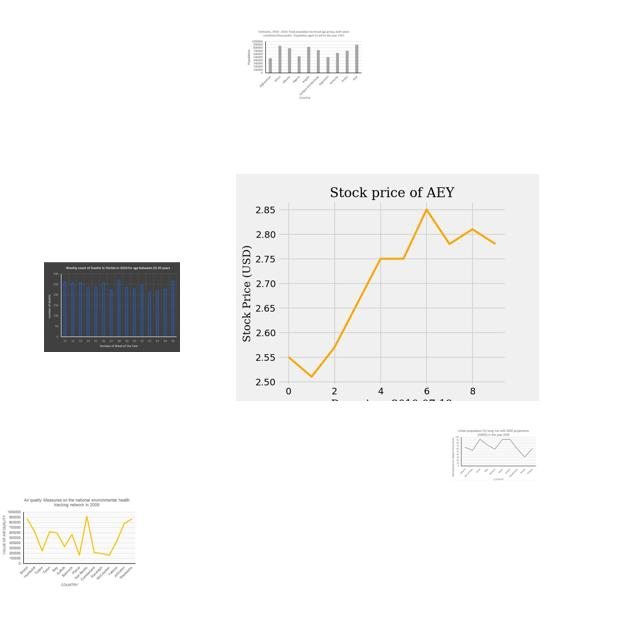Graph: (236, 174, 539, 401), (0, 496, 138, 588), (44, 262, 180, 352), (244, 28, 364, 100), (450, 428, 537, 481)
